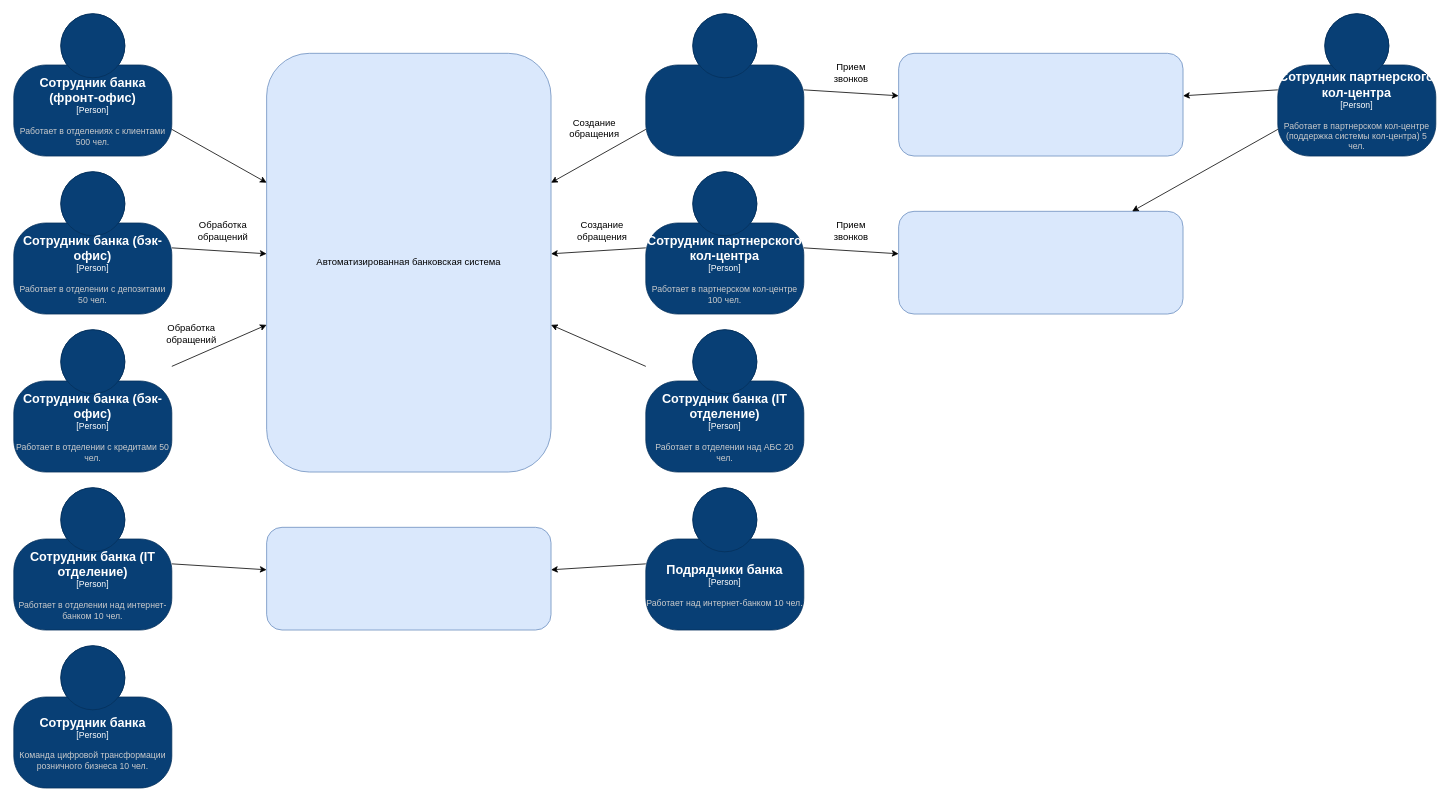
Image size: 1450x802. Some labels were removed from this diagram. The centre of each missing label's shape, as x and y in pixels:
"Интернет-банк (сайт)" belongs at [408,578].
"Система кол-центра" belongs at [1040,104].
"Система партнёрского кол-центра" belongs at [1040,262].
"Сотрудник банка (кол-центр) [Person] Работает в отделении банка 200 чел." belongs at [724,84].
